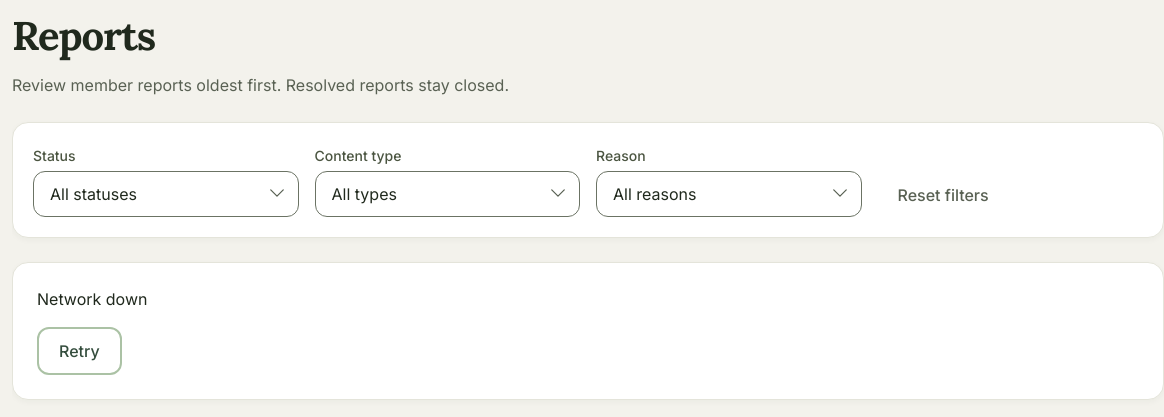
Scenario: AdminReportsPage.vue › shows a retry before the empty state and keeps filters on retry
Click the button "Retry": (79, 351) x1=37 y1=327 x2=122 y2=375
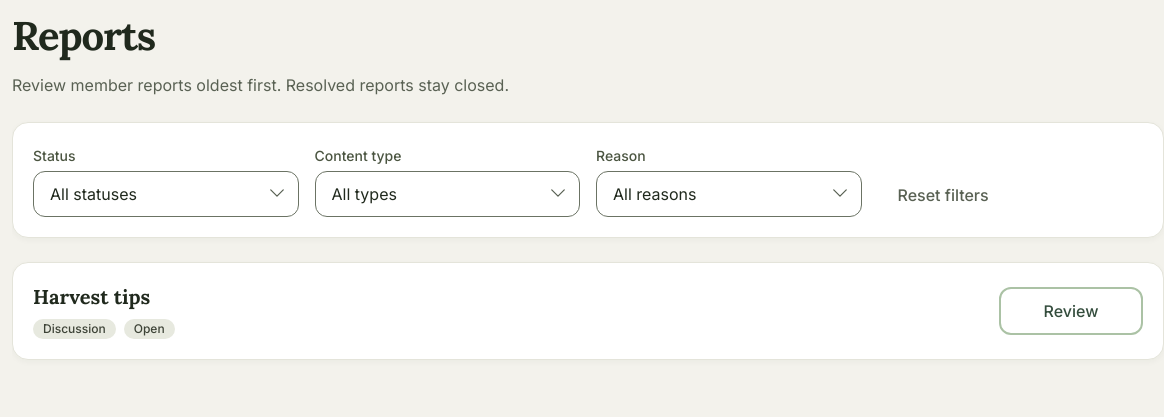
Expected: the text "Harvest tips" is shown, x1=33 y1=284 x2=150 y2=309
